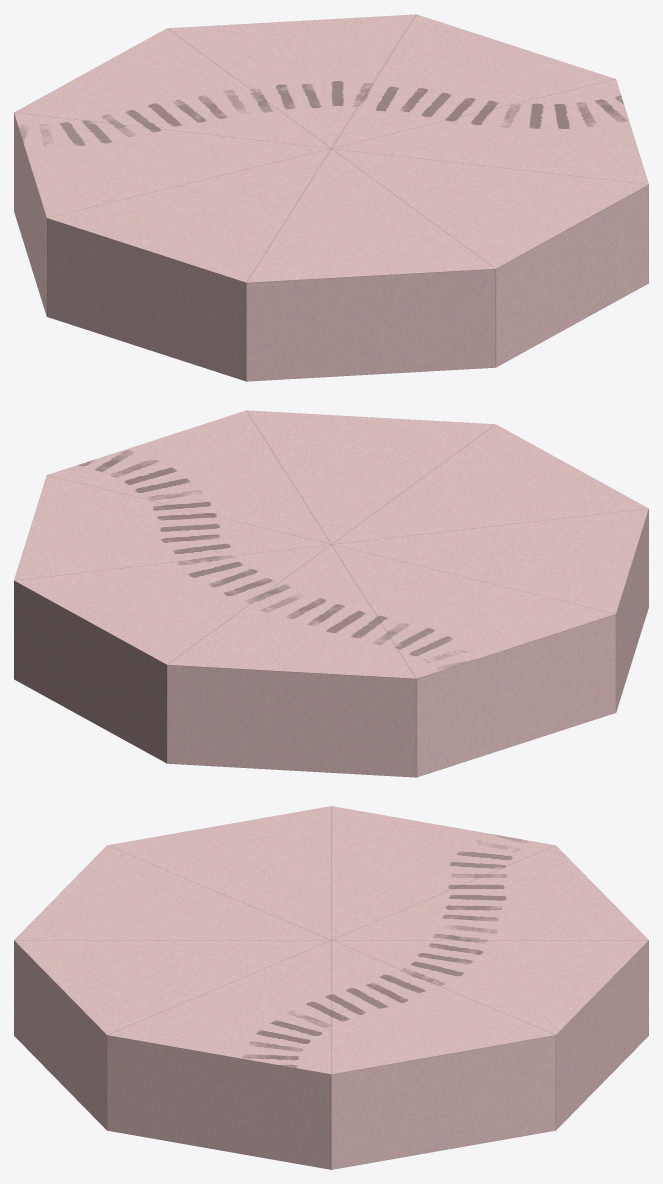
Rendered from Desert.fbx.
3 views of the same model, one above another, from view 1: azimuth 30°, elevation 25°; view 2: azimuth 150°, elevation 25°; view 3: azimuth 270°, elevation 25° (orthographic). The views are drawn at different scales.
Visible parts, largest first — view 1: Base Dessert; view 2: Base Dessert; view 3: Base Dessert.
Part boxes in pixels (x1=…): Base Dessert: x1=14, y1=14, x2=648, y2=381; Base Dessert: x1=14, y1=410, x2=648, y2=777; Base Dessert: x1=14, y1=806, x2=648, y2=1169.
Bounding box in the file's own units: 13990 × 2321 × 13990.
